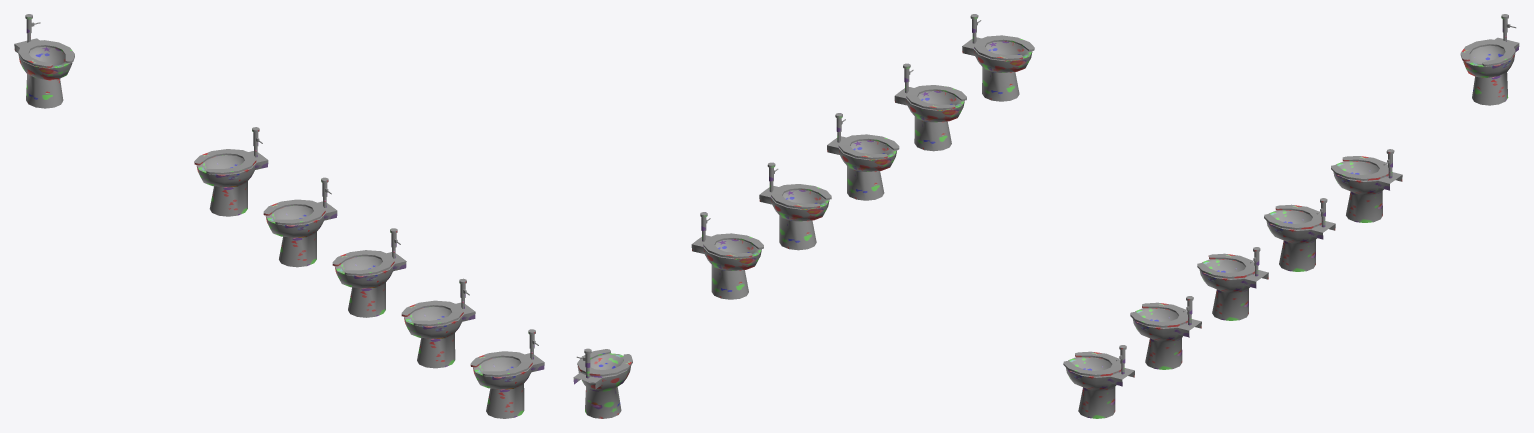
The model's file is bathroomToilets.fbx.
3 views of the same model, side by side, from view 1: azimuth 30°, elevation 25°; view 2: azimuth 150°, elevation 25°; view 3: azimuth 330°, elevation 25° (orthographic). The views are drawn at different scales.
Visible parts, largest first — view 1: toiletsBathroom; view 2: toiletsBathroom; view 3: toiletsBathroom.
Part boxes in pixels (x1,y1,x2,y2): toiletsBathroom: (14, 14, 544, 418); toiletsBathroom: (573, 14, 1034, 418); toiletsBathroom: (1063, 14, 1519, 418).
Size of the model in its own units: 310 by 260 by 2988.
